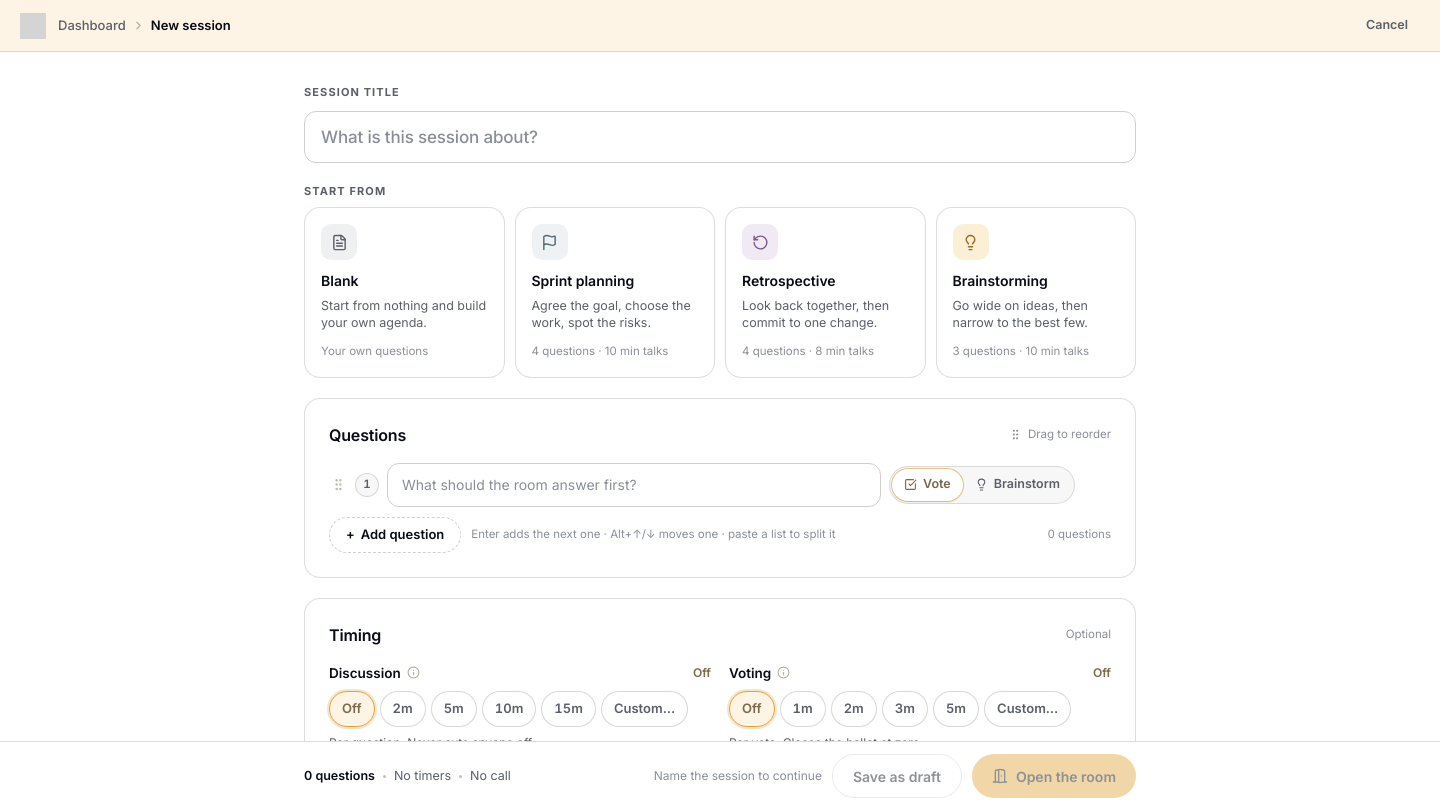
Test: CreateSessionPage › stays busy once the room has been opened
Type "Roadmap" into the field labelled "Session title" at (720, 136), box x1=304 y1=110 x2=1136 y2=162
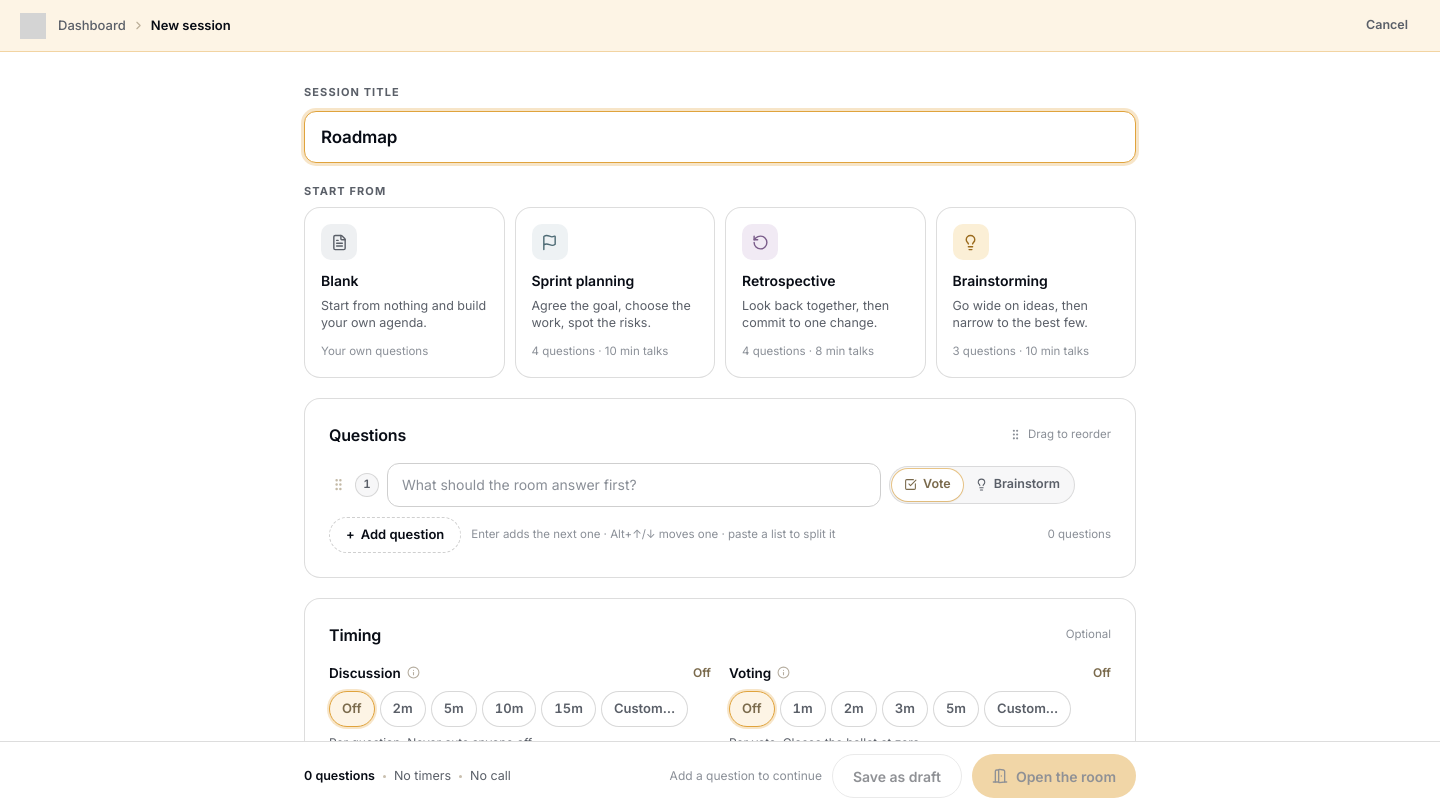
Type "What ships first?" into the field named "Question 1" at (634, 485), box x1=387 y1=463 x2=881 y2=507
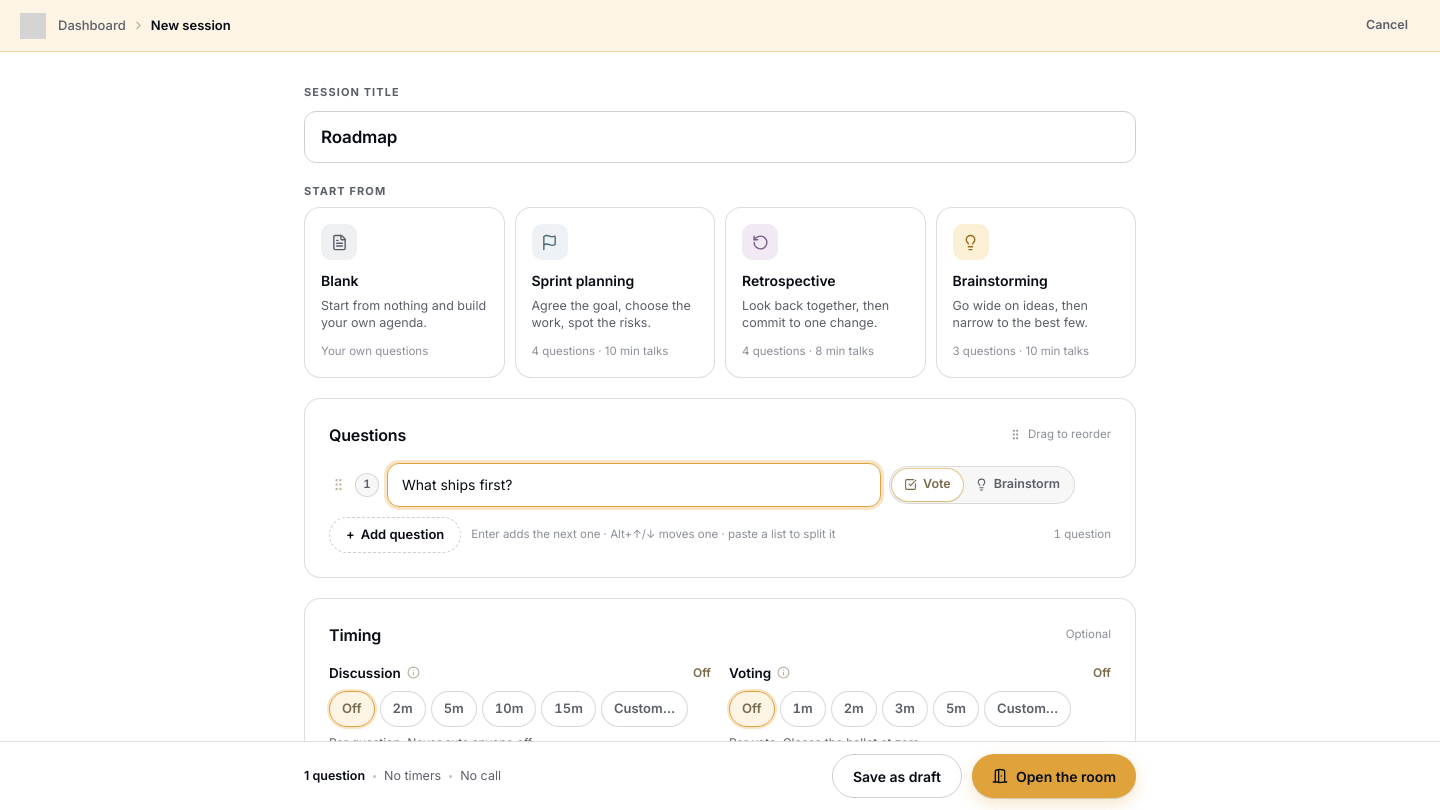
Click the button "Open the room" at (1054, 776), box x1=972 y1=754 x2=1136 y2=798
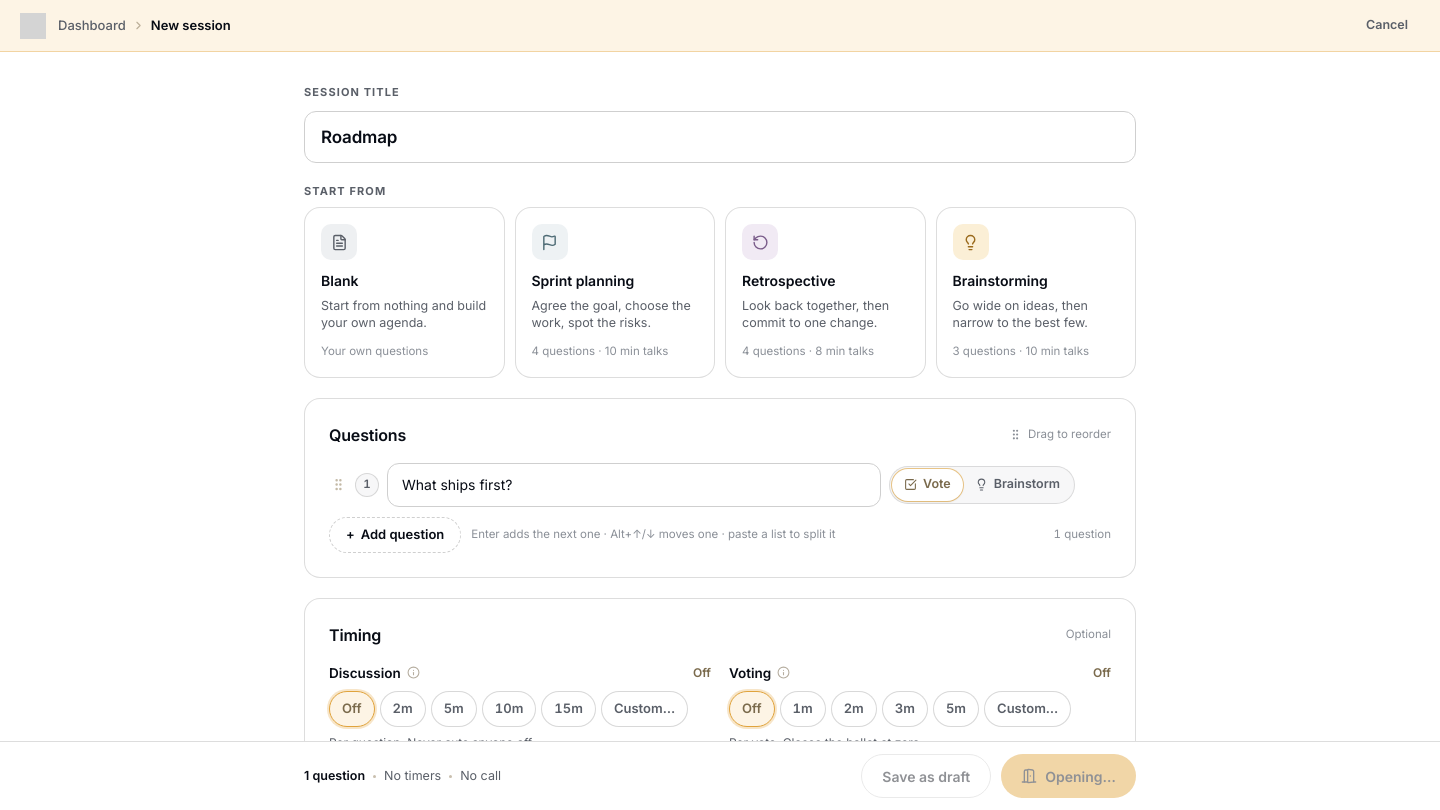
expect the button "Opening…" is disabled: met, box x1=1001 y1=754 x2=1136 y2=798
expect the button "Save as draft" is disabled: met, box x1=861 y1=754 x2=991 y2=798
